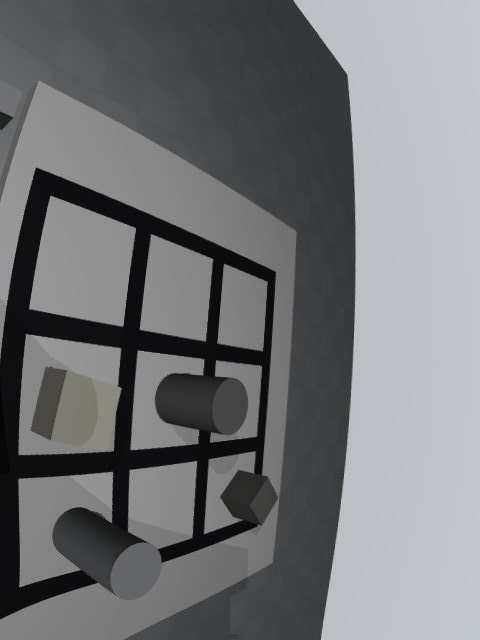can: (52, 507, 162, 600)
cube: (220, 470, 278, 526)
cylinder: (155, 374, 248, 435)
foam: (31, 366, 122, 452)
